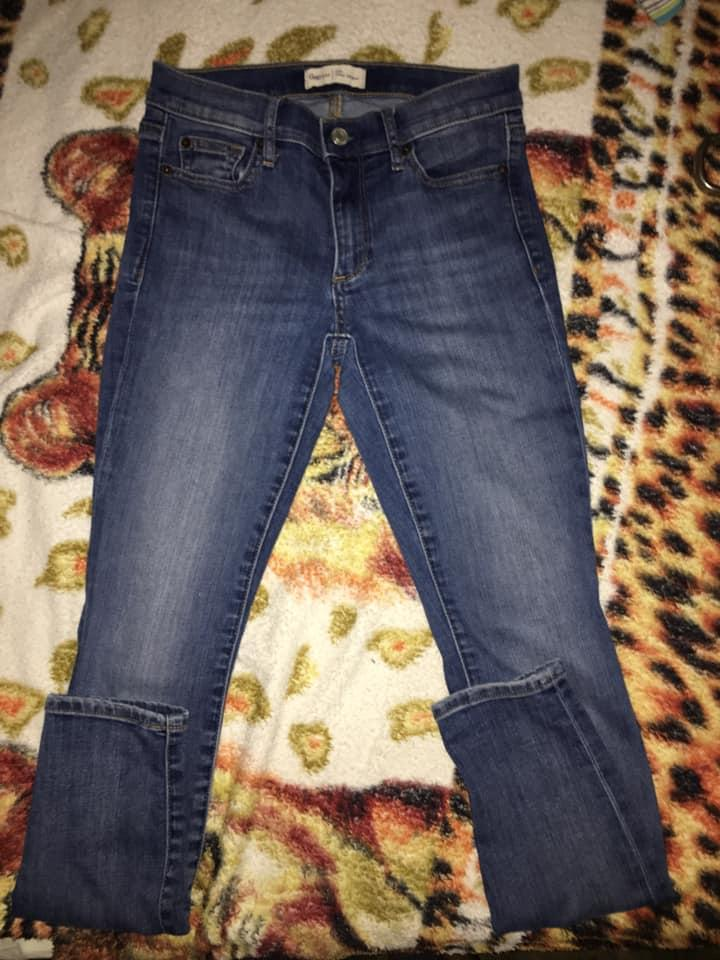jeans: (0, 45, 677, 951)
